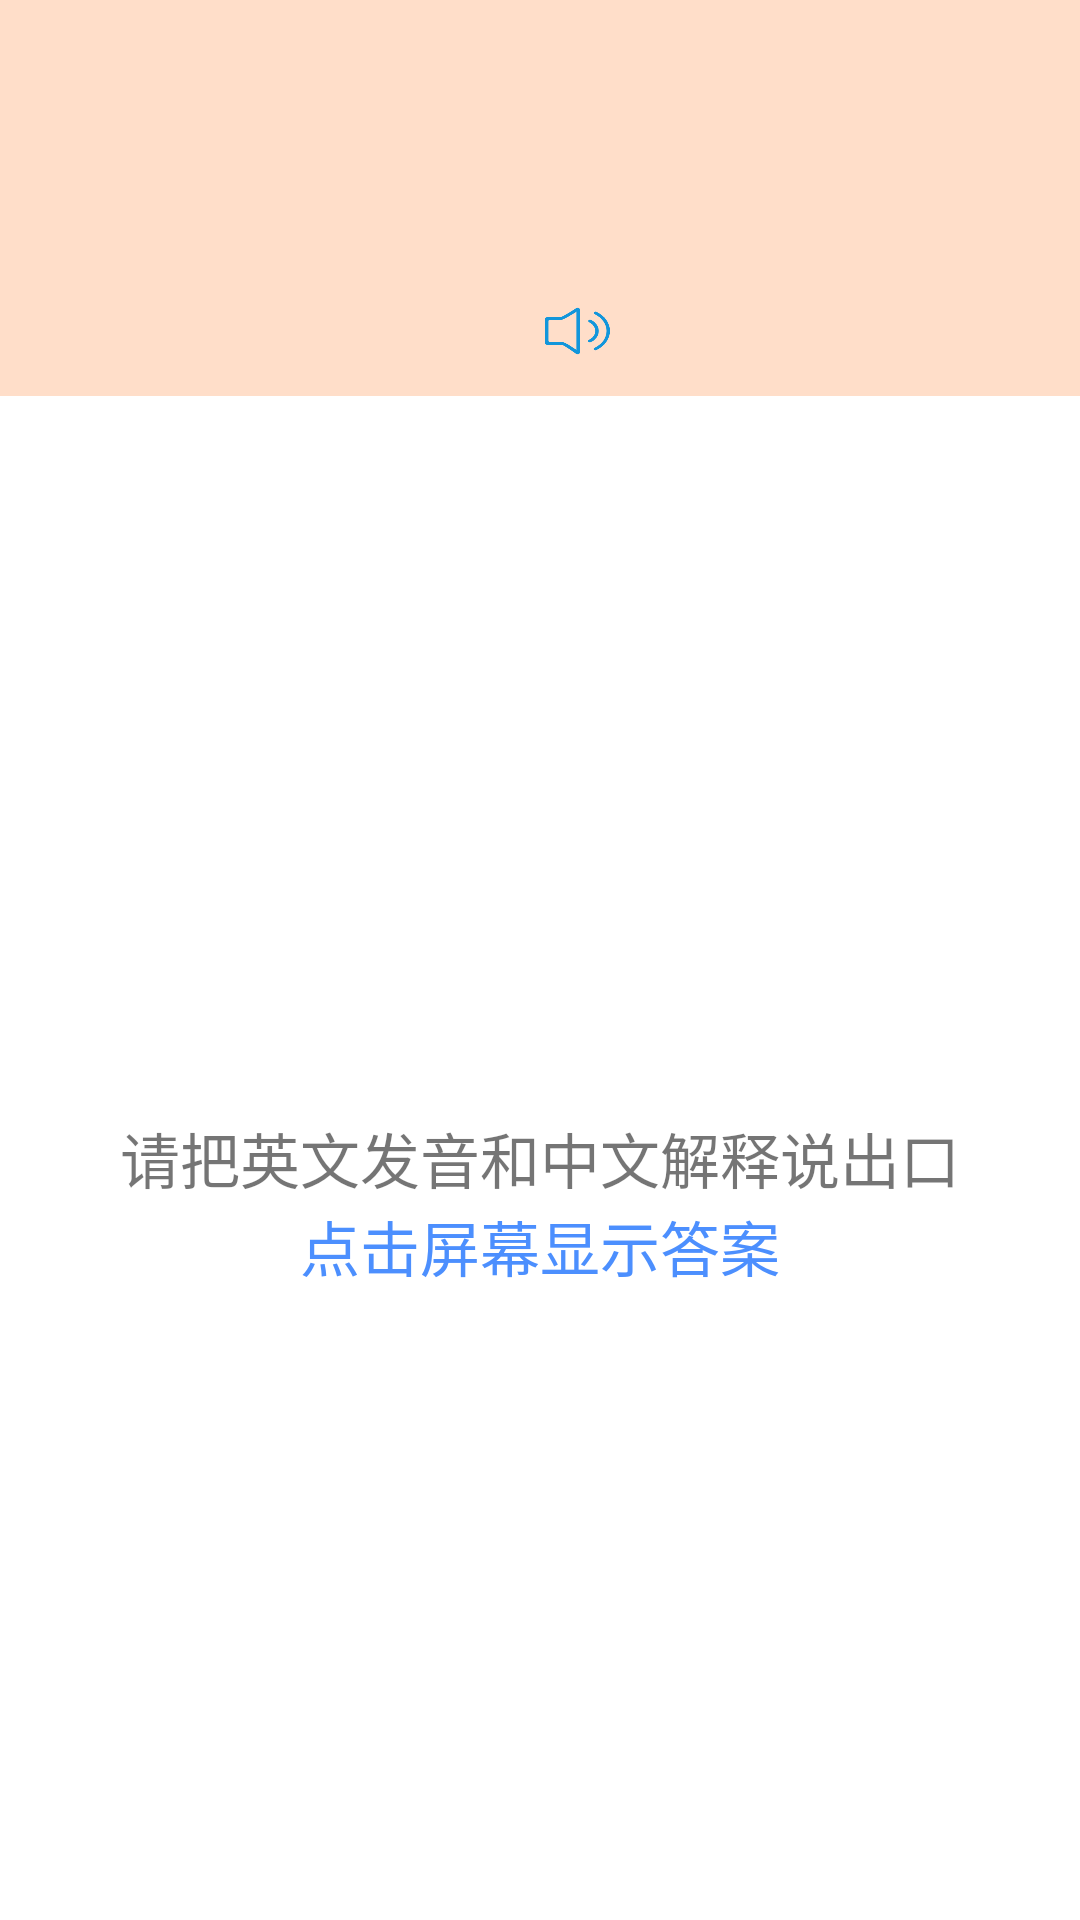

Locate icon controls on the screen. Image size 1080w x 1920h, boxes as [x1, y1, x2, y2].
bofang: [545, 307, 610, 355]
